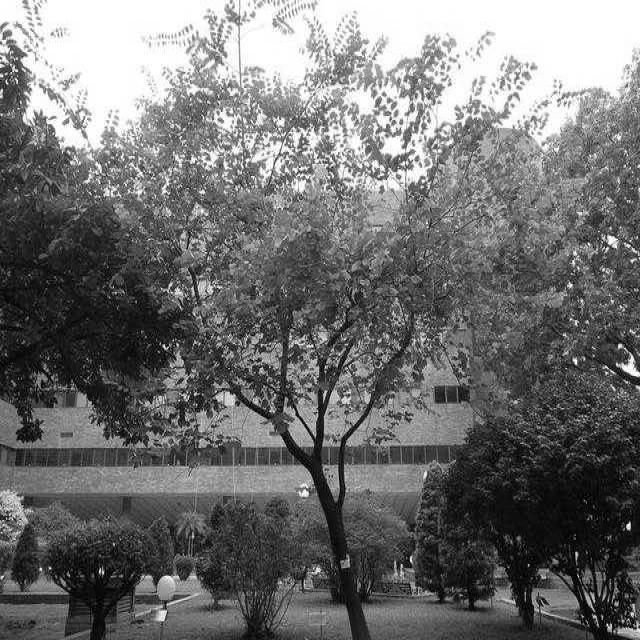Tree: (136, 20, 502, 638), (0, 26, 172, 443), (450, 375, 640, 638), (503, 57, 640, 396), (49, 518, 150, 638), (416, 464, 495, 610), (212, 505, 296, 638), (343, 492, 412, 602), (343, 494, 412, 600), (294, 498, 341, 599)
